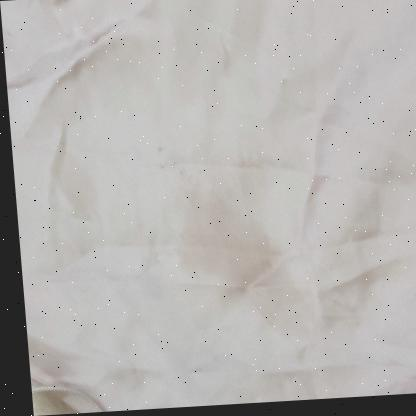spot: (151, 135, 165, 159), (155, 159, 177, 174), (173, 164, 186, 182)
